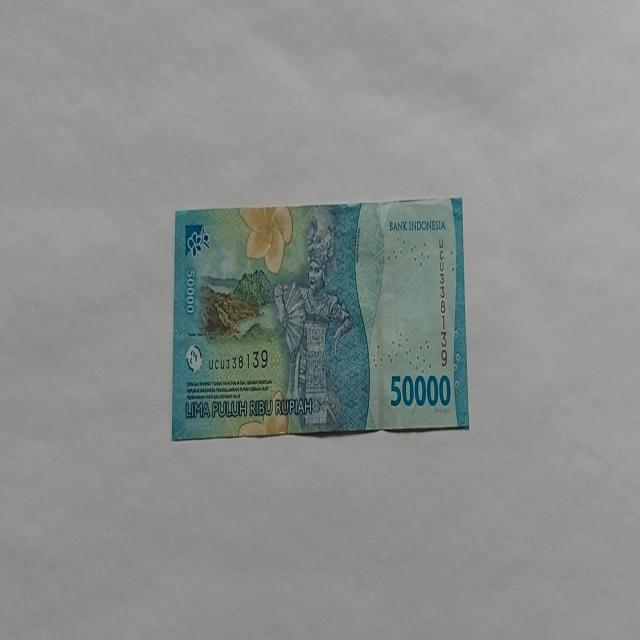lima puluh ribu rupiah: (170, 196, 470, 440), (272, 214, 354, 433)
